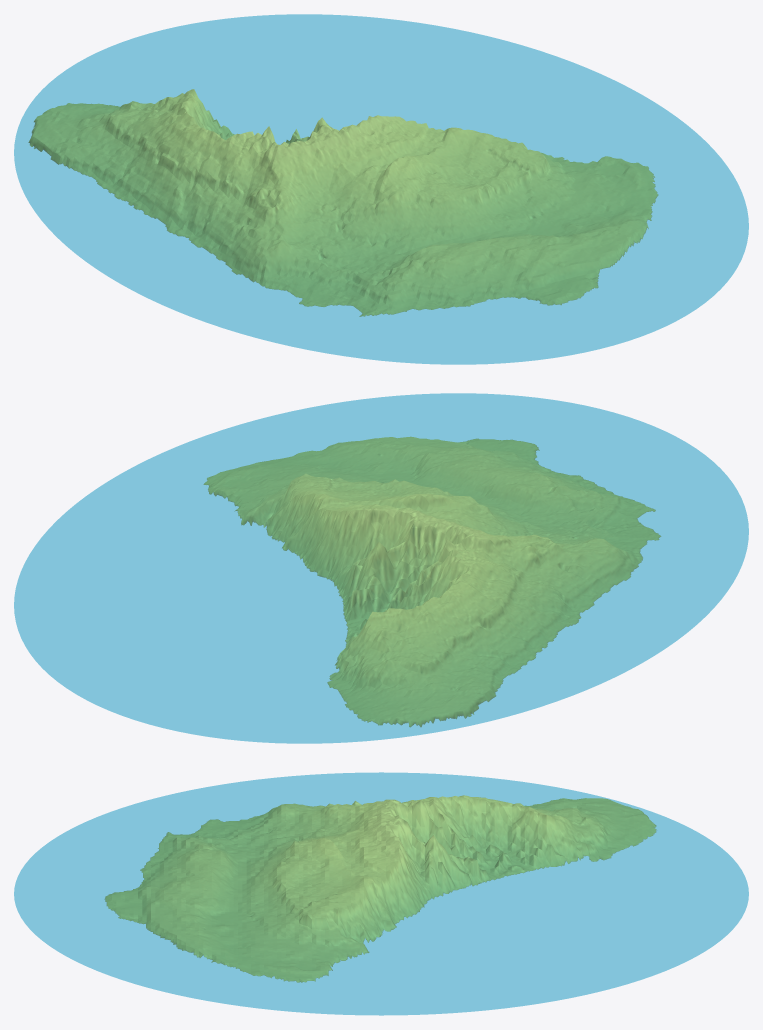
The model's file is BRB-terrain.glb.
3 views of the same model, one above another, from view 1: azimuth 30°, elevation 25°; view 2: azimuth 150°, elevation 25°; view 3: azimuth 270°, elevation 25° (orthographic). The views are drawn at different scales.
Visible parts, largest first — view 1: Relevo com hidrografia; view 2: Relevo com hidrografia; view 3: Relevo com hidrografia.
Boxes of the visible parts, bbox=[...] form: Relevo com hidrografia: bbox=[14, 14, 748, 364]; Relevo com hidrografia: bbox=[14, 393, 748, 743]; Relevo com hidrografia: bbox=[14, 772, 748, 1015].
Bounding box in the file's own units: 1.67 × 0.1849 × 2.14.
Materials: 2 (1 with a texture image).
